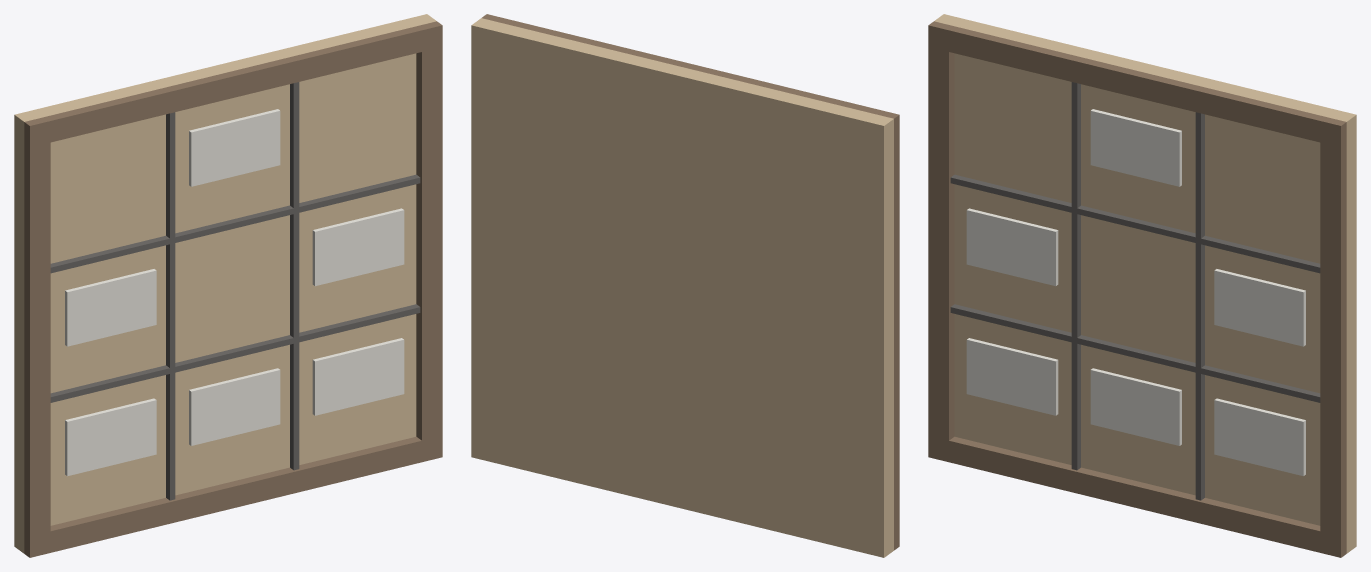
File: Prop_GridBoard.fbx
3 views of the same model, side by side, from view 1: azimuth 30°, elevation 25°; view 2: azimuth 150°, elevation 25°; view 3: azimuth 330°, elevation 25° (orthographic).
Visible parts, largest first — view 1: Prop_GridBoard, Prop_GridBoard_Slips; view 2: Prop_GridBoard; view 3: Prop_GridBoard, Prop_GridBoard_Slips.
Part boxes in pixels (x1,y1,x2,y2): Prop_GridBoard: (14,14,442,557); Prop_GridBoard_Slips: (65,109,404,476); Prop_GridBoard: (471,14,899,557); Prop_GridBoard: (928,14,1356,557); Prop_GridBoard_Slips: (966,109,1305,476).
Bounding box in the file's own units: 60 × 60 × 3.9.
